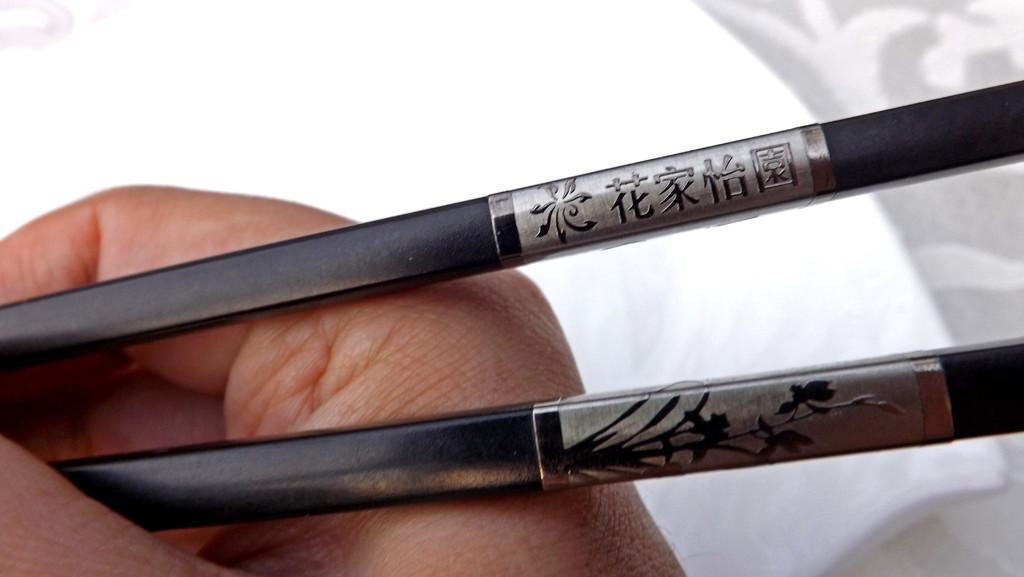pen: (0, 77, 1023, 378), (51, 346, 1023, 532)
